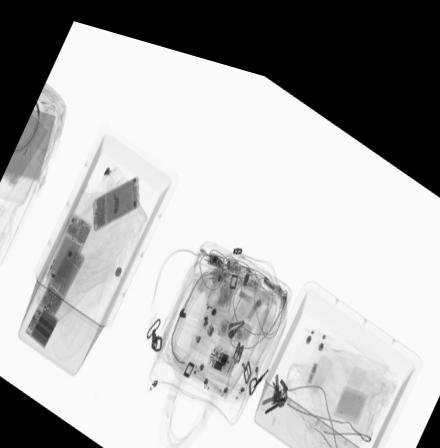Powerbank: (24, 301, 59, 345), (332, 365, 370, 405)
